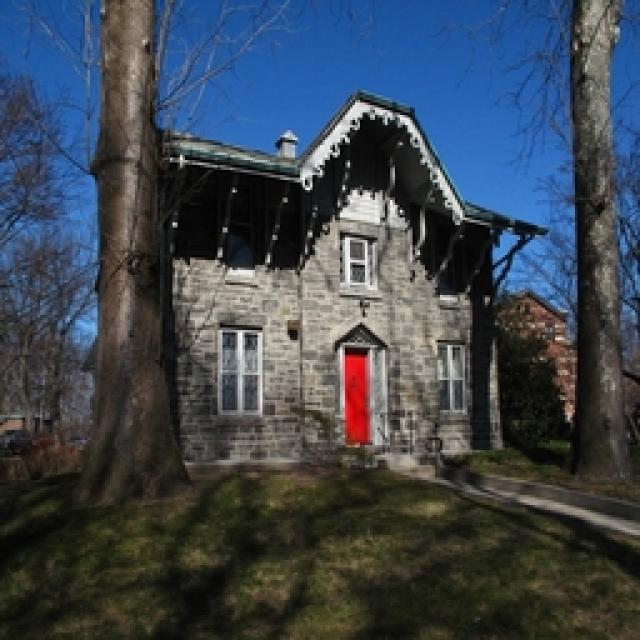Abbey: (154, 86, 549, 474)
